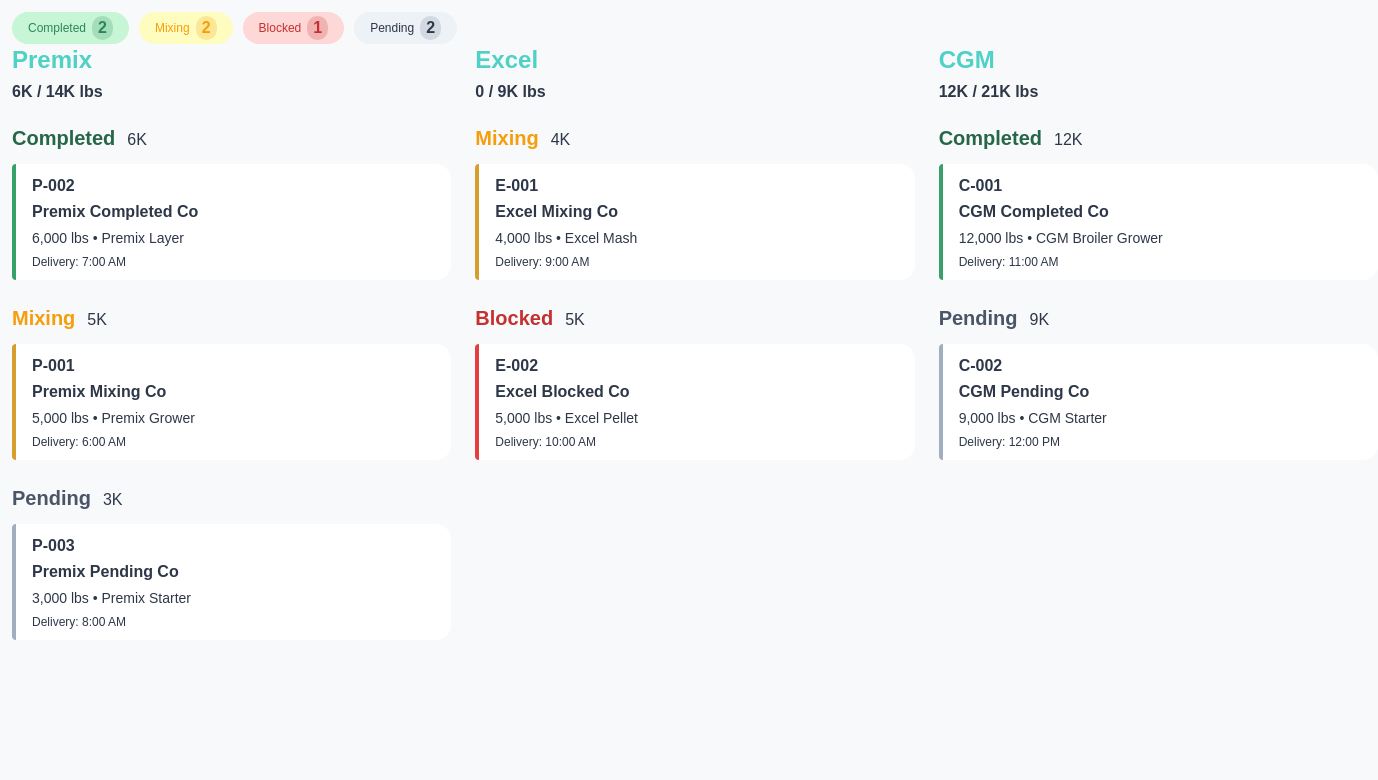
Test: MillProductionUI › clicking a filter pill toggles its active state and filters the rendered orders
The width and height of the screenshot is (1378, 780).
Expected: the text "Premix Mixing Co" is shown, [32,383,166,400]
Expected: the text "Premix Completed Co" is shown, [32,203,198,220]
# Click the Mixing filter pill.
Click the button with aria-label "Filter by Mixing" at [186, 28], box [139,12,232,44]
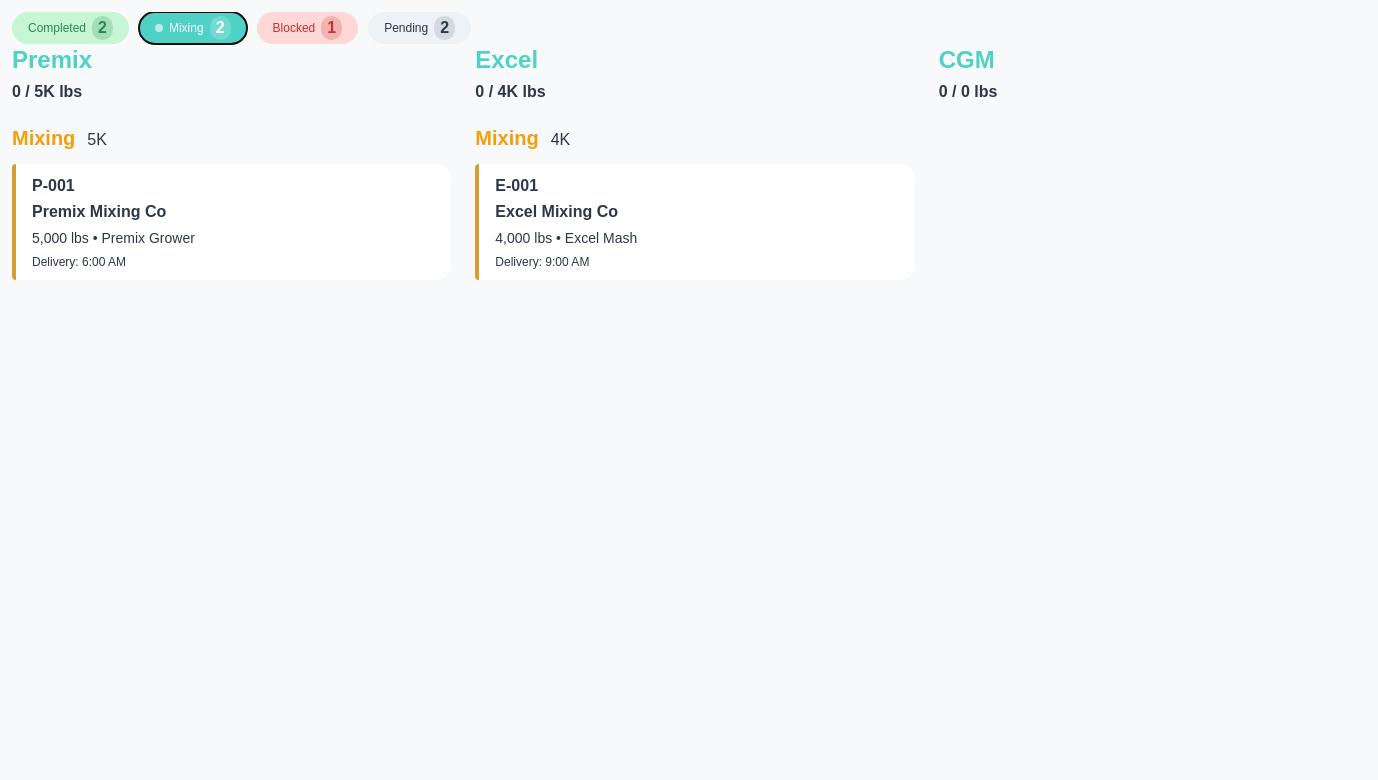
Expected: the text "Premix Completed Co" is gone
Expected: the text "Premix Pending Co" is gone
Expected: the text "Excel Blocked Co" is gone
